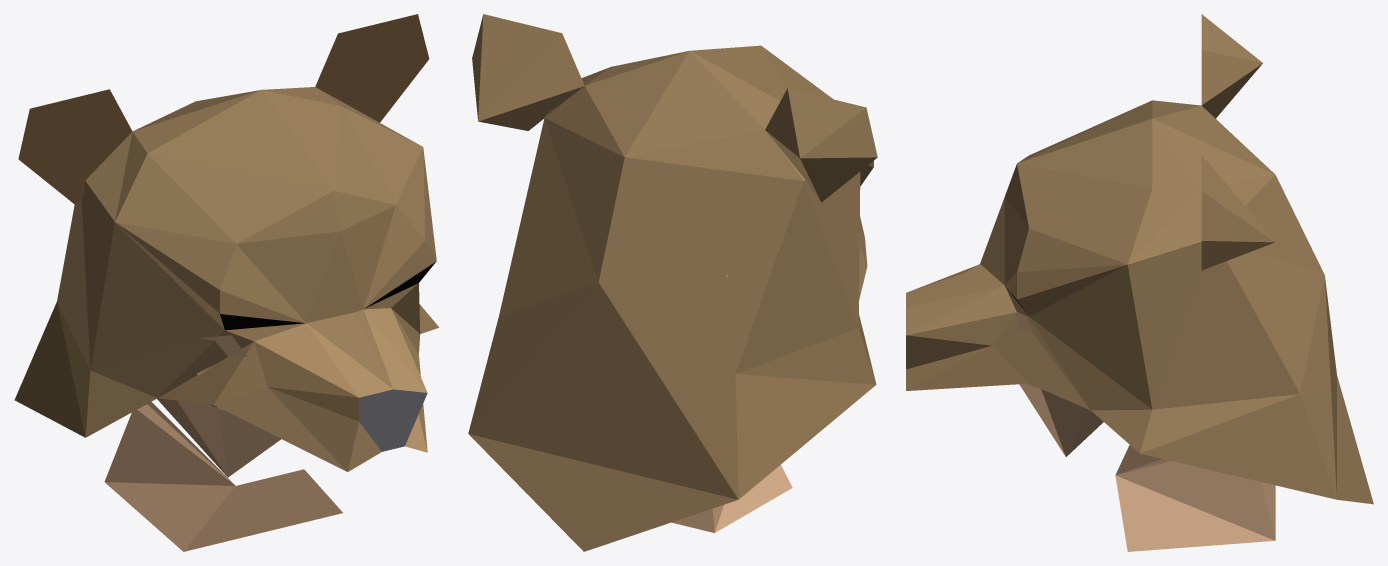
The model's file is player_bearhead.glb.
3 views of the same model, side by side, from view 1: azimuth 30°, elevation 25°; view 2: azimuth 150°, elevation 25°; view 3: azimuth 270°, elevation 25° (orthographic). The views are drawn at different scales.
Size of the model in its own units: 36 by 37.01 by 37.99.
Materials: 1 (1 with a texture image).
